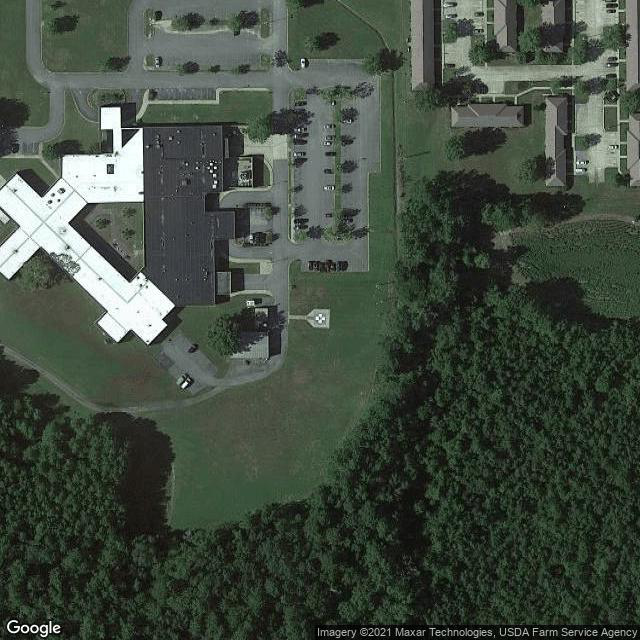Helipad: (307, 305, 331, 330)
